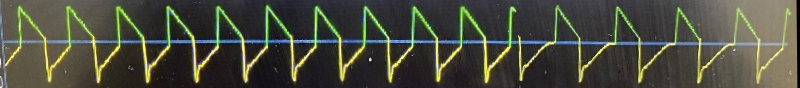normal_flow: (531, 0, 798, 88)
peepi: (0, 0, 511, 88)
